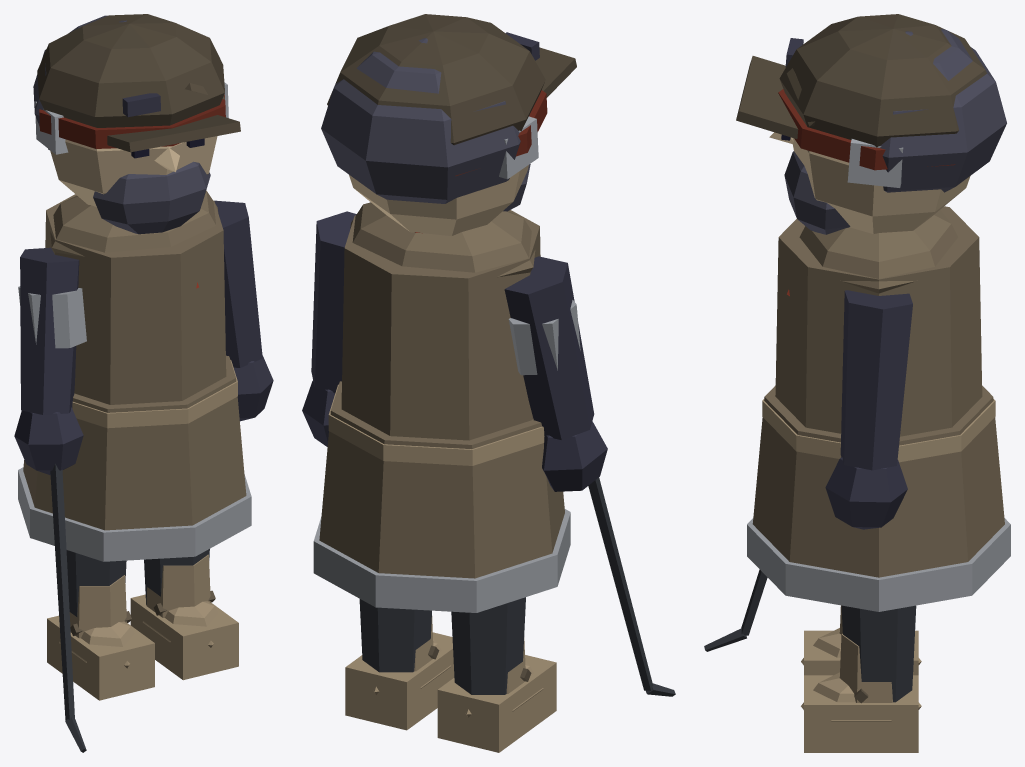
File: ottie_cap.glb
3 views of the same model, side by side, from view 1: azimuth 30°, elevation 25°; view 2: azimuth 150°, elevation 25°; view 3: azimuth 270°, elevation 25° (orthographic). The views are drawn at different scales.
Visible parts, largest first — view 1: Torso, Head, ArmR, LegR, LegL, ArmL; view 2: Torso, Head, ArmR, LegR, LegL, ArmL; view 3: Torso, Head, ArmL, LegL, LegR, ArmR.
Boxes of the visible parts, x1,y1,x2,y2 form: Torso: [18, 190, 251, 561]; Head: [33, 14, 240, 234]; ArmR: [14, 247, 86, 752]; LegR: [47, 550, 154, 700]; LegL: [130, 549, 238, 680]; ArmL: [214, 200, 273, 421]; Torso: [313, 202, 570, 612]; Head: [321, 14, 576, 236]; ArmR: [504, 256, 675, 696]; LegR: [437, 597, 556, 752]; LegL: [345, 599, 454, 730]; ArmL: [302, 211, 356, 446]; Torso: [747, 206, 1010, 611]; Head: [736, 14, 1006, 234]; ArmL: [825, 290, 912, 529]; LegL: [801, 605, 921, 752]; LegR: [801, 605, 921, 675]; ArmR: [704, 569, 767, 651].
Bounding box in the file's own units: 0.7407 × 1.74 × 0.6973.
